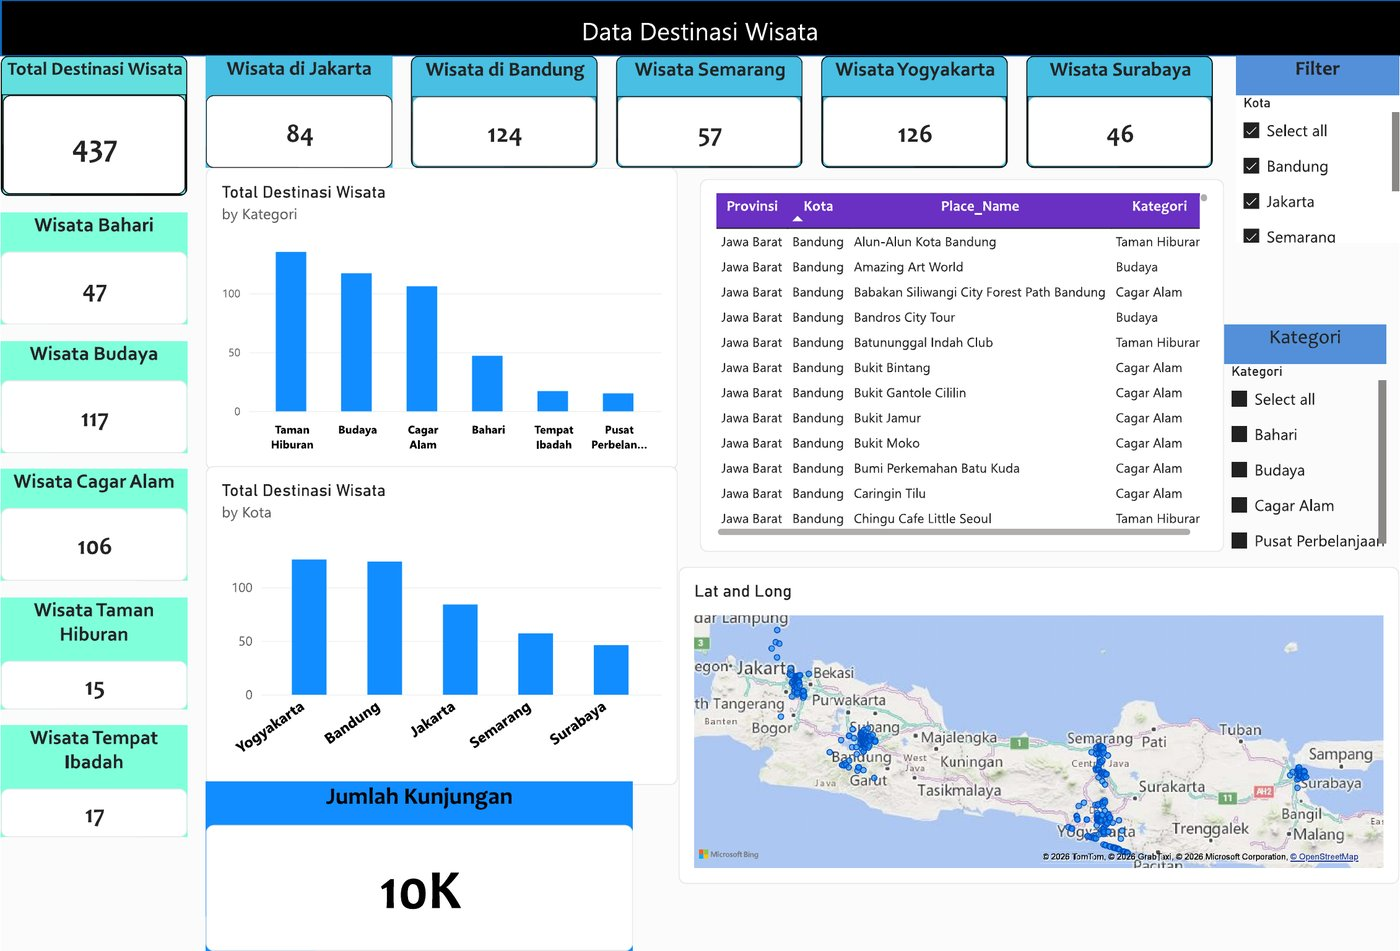

What the dashboard file says about the page in this screenshot:
{"tool":"powerbi","page":{"name":"Depan","canvas":[1500,1050],"ordinal":0},"visuals":[{"type":"shape","box":[0,0,1600,60.3],"z":0},{"type":"textbox","box":[0,14,1500,46],"z":1000},{"type":"slicer","title":"Filter","fields":{"Values":["Kota.Kota"]},"box":[1325,60,175,200],"z":2000},{"type":"slicer","title":"Kategori","fields":{"Values":["Kategori.Kategori"]},"box":[1311.7,348.3,174,276],"z":3000},{"type":"cardVisual","title":"Wisata di Bandung","fields":{"Data":["tourism_with_id.Jumlah Wisata di Jakarta"]},"box":[440.2,60.3,200,120],"z":4000},{"type":"cardVisual","title":"Wisata Semarang","fields":{"Data":["tourism_with_id.Jumlah Wisata di Semarang"]},"box":[660.2,60.3,200,120],"z":5000},{"type":"cardVisual","title":"Wisata Yogyakarta","fields":{"Data":["tourism_with_id.Jumlah Wisata di Yogyakarta"]},"box":[880.3,60.3,200,120],"z":6000},{"type":"cardVisual","title":"Wisata Surabaya","fields":{"Data":["tourism_with_id.Jumlah Wisata di Surabaya"]},"box":[1100.4,60.3,200,120],"z":7000},{"type":"cardVisual","title":"Wisata di Jakarta","fields":{"Data":["tourism_with_id.Jumlah Wisata di Jakarta"]},"box":[220.1,60.3,200,120],"z":8000},{"type":"cardVisual","title":"Wisata Bahari","fields":{"Data":["tourism_with_id.Wisata Bahari"]},"box":[0,227.9,200,120],"z":9000},{"type":"cardVisual","title":"Total Destinasi Wisata","fields":{"Data":["tourism_with_id.Total Destinasi Wisata"]},"box":[0,60.3,200,150],"z":10000},{"type":"cardVisual","title":"Wisata Budaya","fields":{"Data":["tourism_with_id.Wisata Budaya"]},"box":[0,365.5,200,120],"z":11000},{"type":"cardVisual","title":"Wisata Cagar Alam","fields":{"Data":["tourism_with_id.Wisata Cagar Alam"]},"box":[0,503.1,200,120],"z":12000},{"type":"cardVisual","title":"Wisata Taman Hiburan","fields":{"Data":["tourism_with_id.Wisata Pusat Perbelanjaan"]},"box":[0,640.7,200,120],"z":13000},{"type":"cardVisual","title":"Wisata Tempat Ibadah","fields":{"Data":["tourism_with_id.Wisata Tempat Ibadah"]},"box":[0,778.3,200,120],"z":14000},{"type":"tableEx","fields":{"Values":["Kota.Provinsi","Kota.Kota","tourism_with_id.Place_Name","Kategori.Kategori"]},"box":[750,191.7,562,400],"z":15000},{"type":"map","fields":{"X":["tourism_with_id.Long"],"Y":["tourism_with_id.Lat"]},"box":[726.7,608.3,773.3,340],"z":16000},{"type":"clusteredColumnChart","fields":{"Category":["Kategori.Kategori"],"Y":["tourism_with_id.Total Destinasi Wisata"]},"box":[220,180,506,324],"z":17000},{"type":"clusteredColumnChart","fields":{"Category":["Kota.Kota"],"Y":["tourism_with_id.Total Destinasi Wisata"]},"box":[220,500,506,342],"z":18000},{"type":"cardVisual","title":"Jumlah Kunjungan","fields":{"Data":["tourism_rating.Jumlah Kunjungan"]},"box":[220,838,458,182],"z":19000}]}

Visuals, with their boxes on the page's 1500x1050 design canvas (x1, y1, x2, y2). These are canvas units, not pixel positions in the 1400x951 screenshot, which may show the page scaled, cropped or inside an application window:
shape: 0, 0, 1600, 60
textbox: 0, 14, 1500, 60
"Filter" slicer: 1325, 60, 1500, 260
"Kategori" slicer: 1312, 348, 1486, 624
"Wisata di Bandung" cardVisual: 440, 60, 640, 180
"Wisata Semarang" cardVisual: 660, 60, 860, 180
"Wisata Yogyakarta" cardVisual: 880, 60, 1080, 180
"Wisata Surabaya" cardVisual: 1100, 60, 1300, 180
"Wisata di Jakarta" cardVisual: 220, 60, 420, 180
"Wisata Bahari" cardVisual: 0, 228, 200, 348
"Total Destinasi Wisata" cardVisual: 0, 60, 200, 210
"Wisata Budaya" cardVisual: 0, 366, 200, 486
"Wisata Cagar Alam" cardVisual: 0, 503, 200, 623
"Wisata Taman Hiburan" cardVisual: 0, 641, 200, 761
"Wisata Tempat Ibadah" cardVisual: 0, 778, 200, 898
tableEx - Kota.Provinsi x Kota.Kota: 750, 192, 1312, 592
map - tourism_with_id.Long x tourism_with_id.Lat: 727, 608, 1500, 948
clusteredColumnChart - Kategori.Kategori x tourism_with_id.Total Destinasi Wisata: 220, 180, 726, 504
clusteredColumnChart - Kota.Kota x tourism_with_id.Total Destinasi Wisata: 220, 500, 726, 842
"Jumlah Kunjungan" cardVisual: 220, 838, 678, 1020
